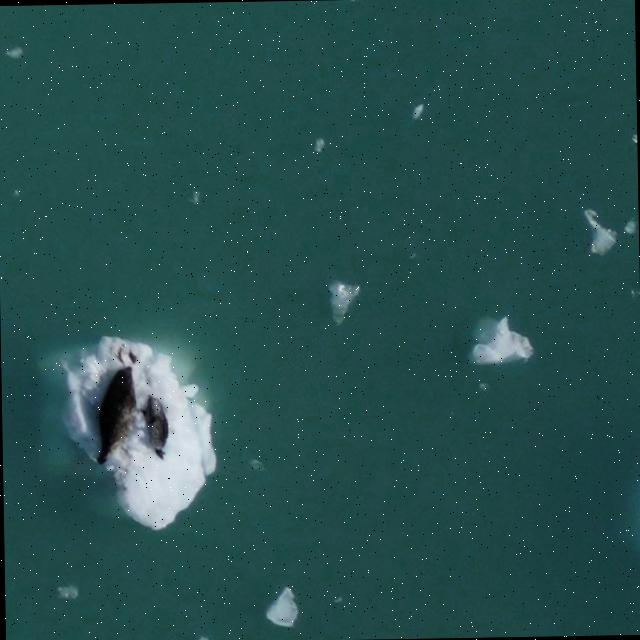seal: (97, 350, 139, 464), (141, 396, 168, 460)
